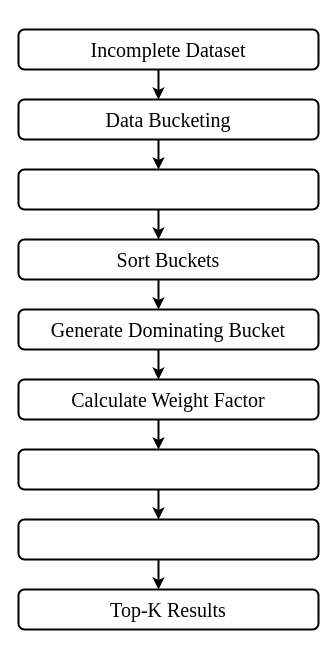
Some shapes in this 336 by 658 pixel diagram are drawn without their labels. Each missing label, with the centre of its shape:
Calculate TKD Score: pixel 168 469
Calculate WTKD Score: pixel 168 539
Key Generation: pixel 168 189
